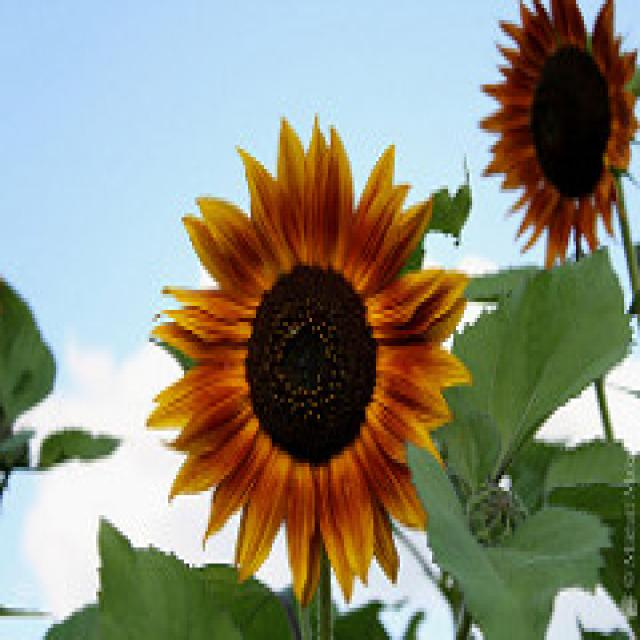sunflower: (137, 117, 468, 612), (485, 0, 640, 266)
